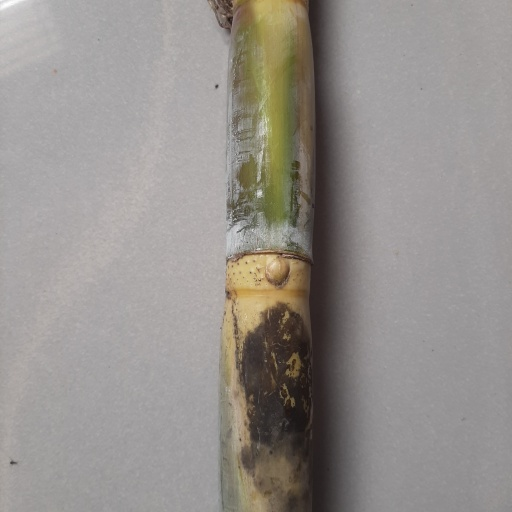Bud: (263, 255, 291, 287)
